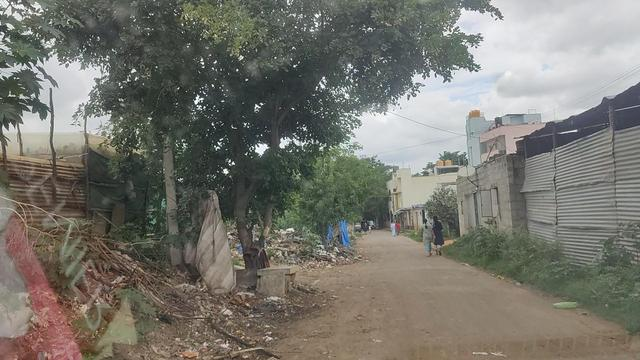UnsurfacedRoad: (354, 286, 552, 354)
